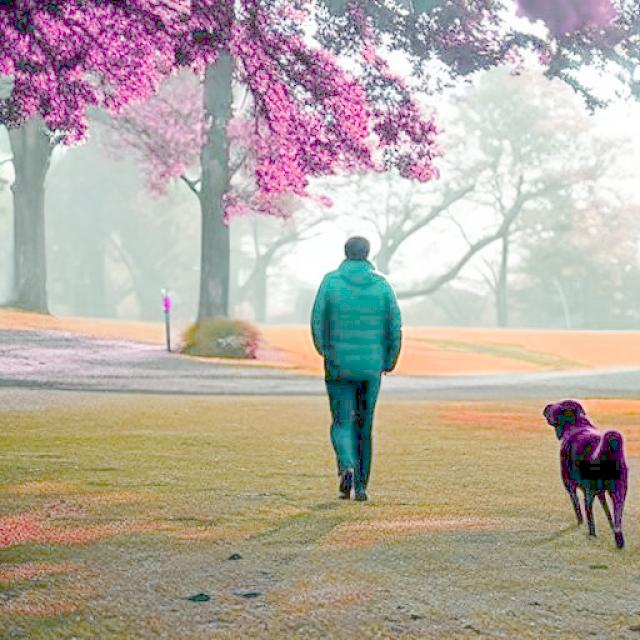Unleashed_Dog: (324, 375, 629, 549)
